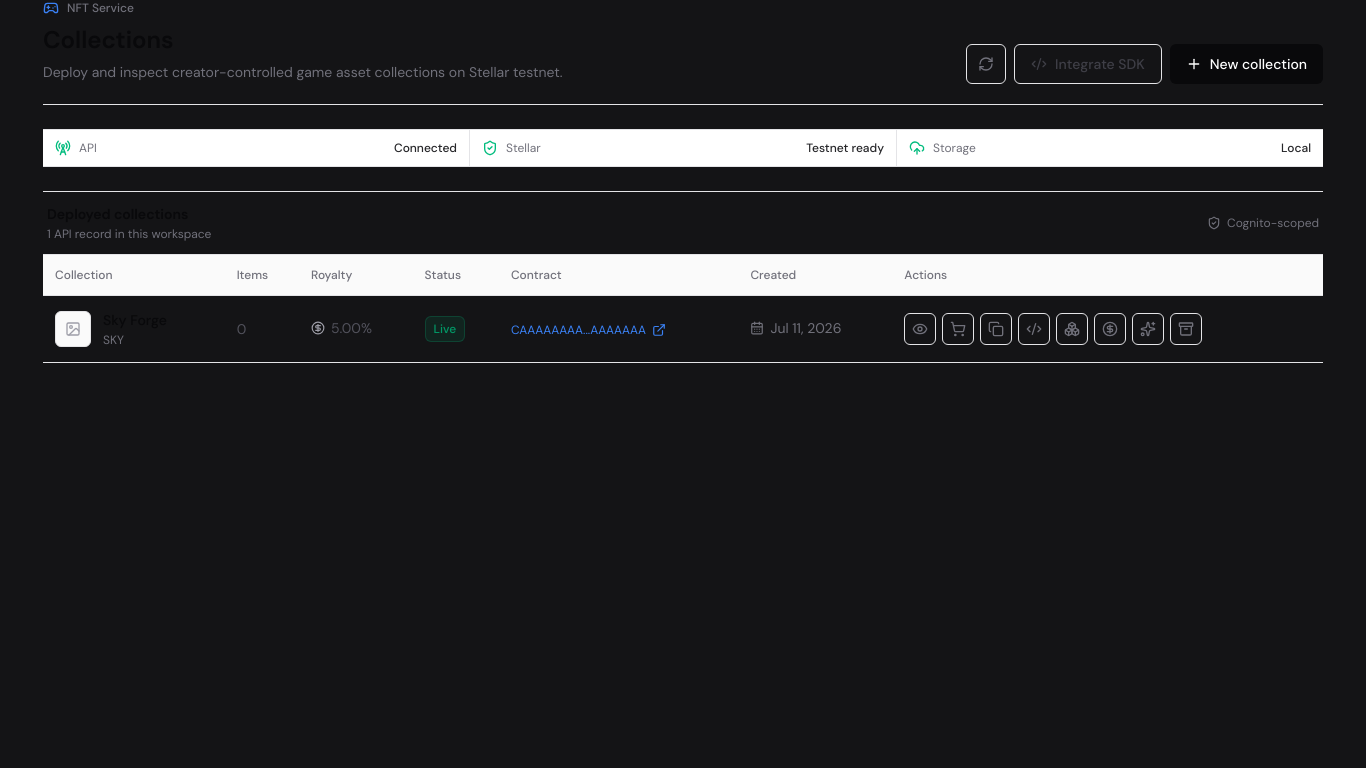
Scenario: CollectionDashboard › signs non-sponsor sale configuration with Freighter and submits
Click the button titled "Configure primary sale" at (1110, 329), box [1094, 313, 1126, 345]
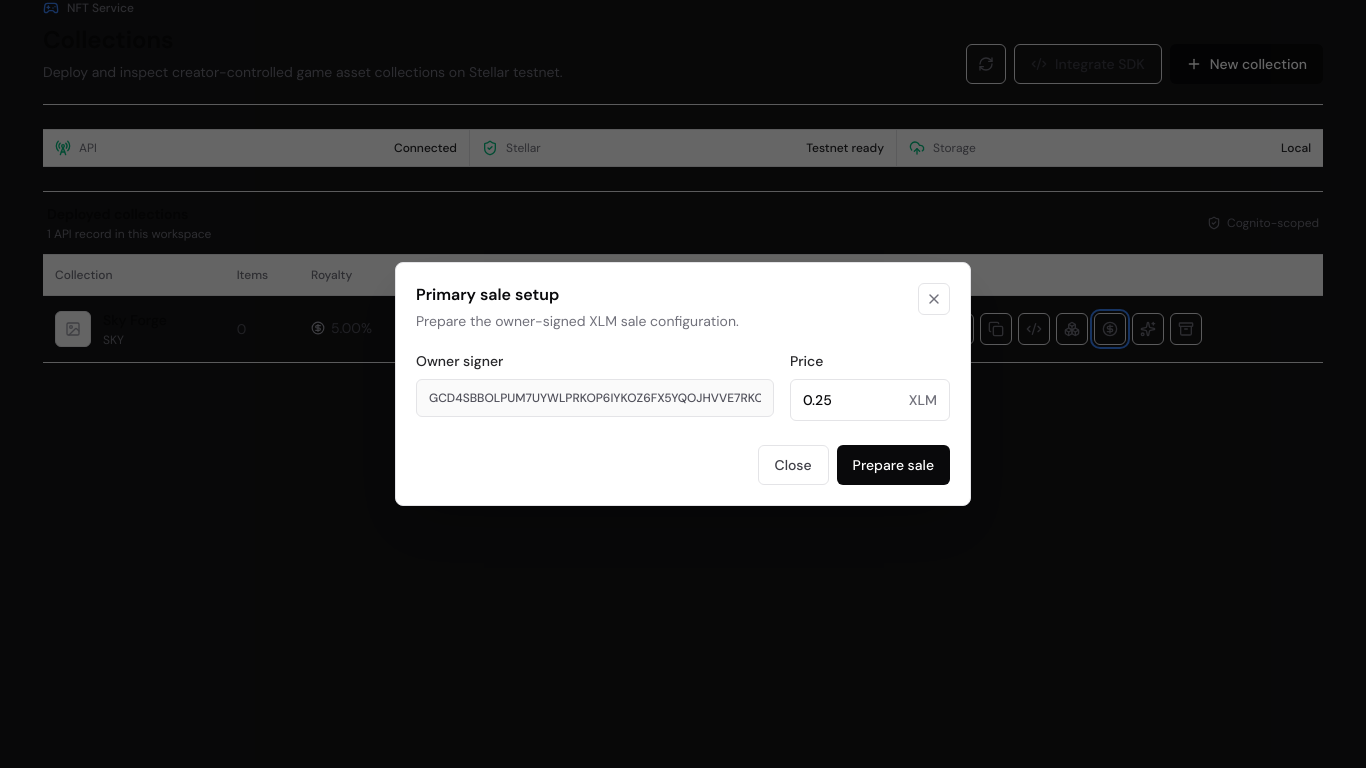
Replace the text in the field labelled "Price XLM" with "1.25" at (850, 400), box [791, 380, 909, 420]
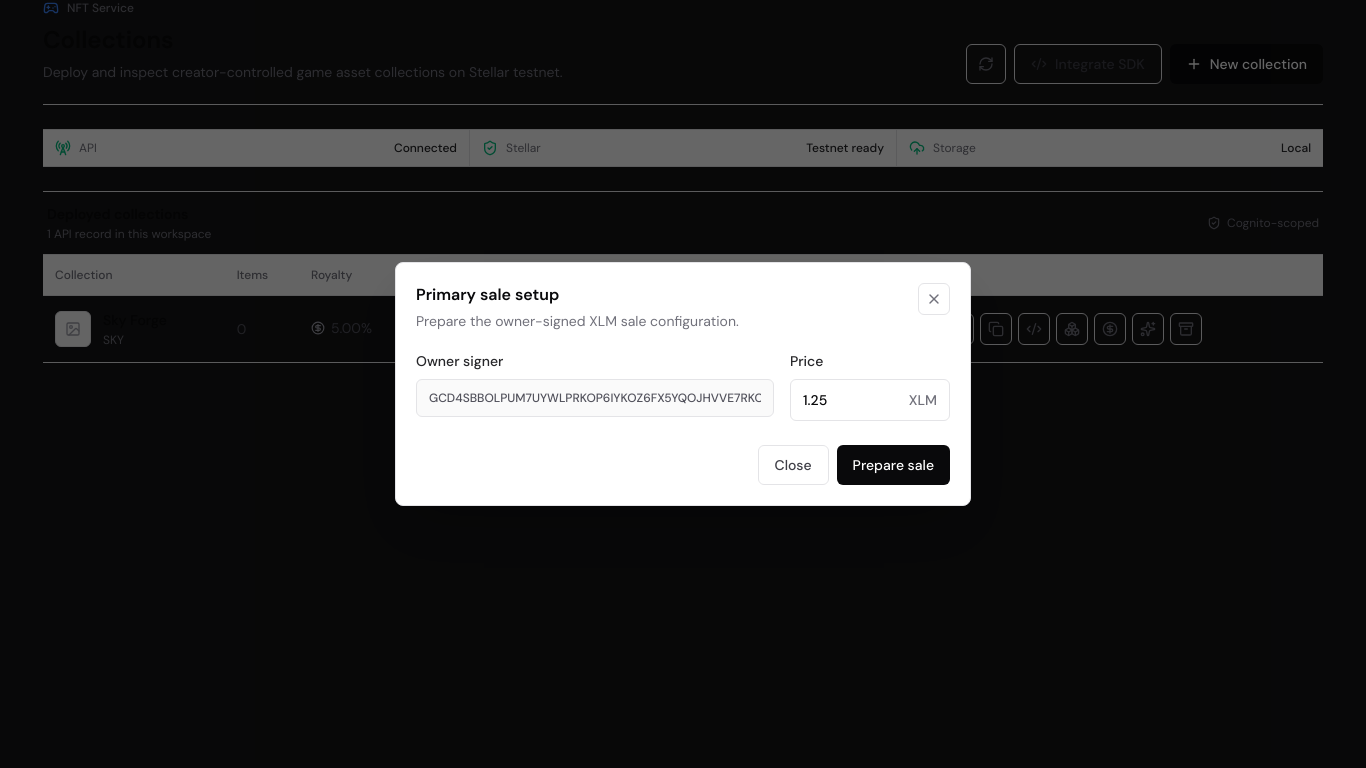
Click the button "Prepare sale" at (893, 465), box [837, 445, 950, 485]
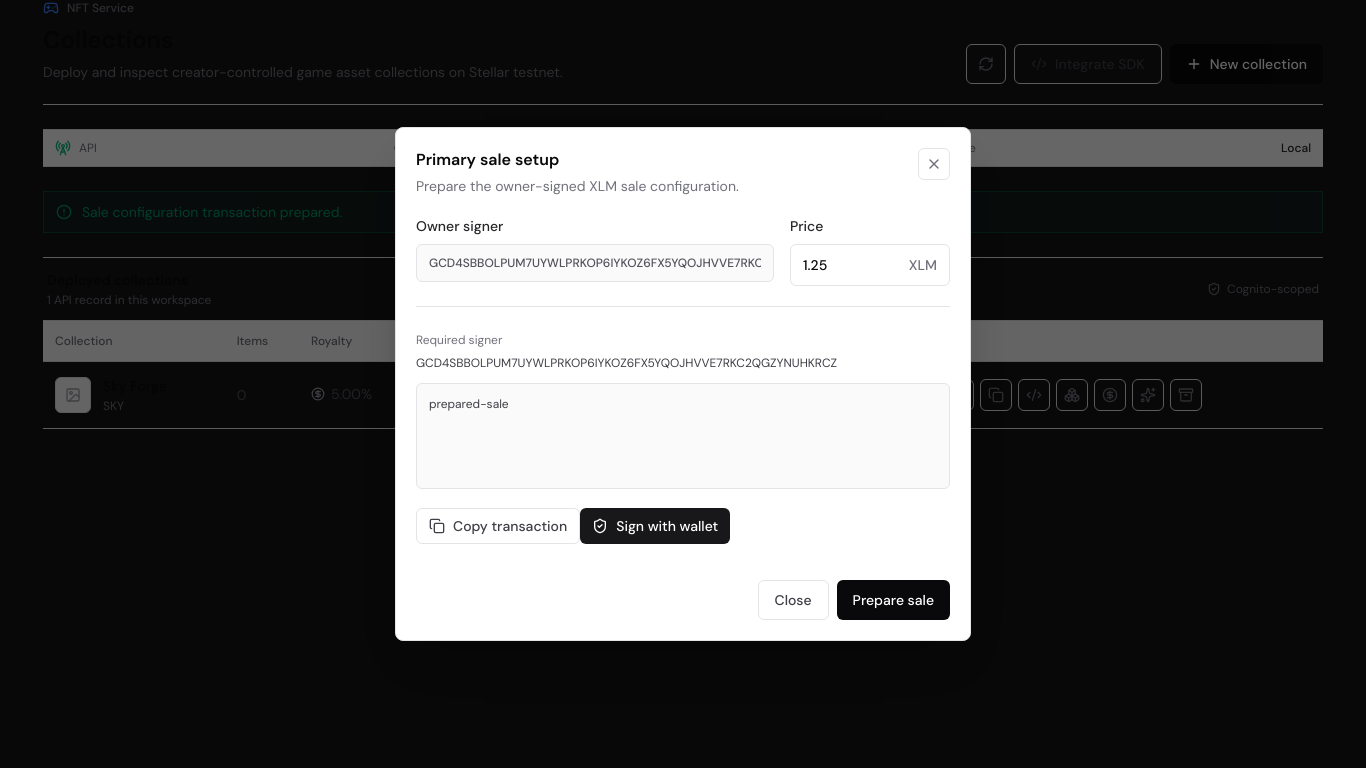
Click the button "Sign with wallet" at (655, 526), box [580, 508, 730, 544]
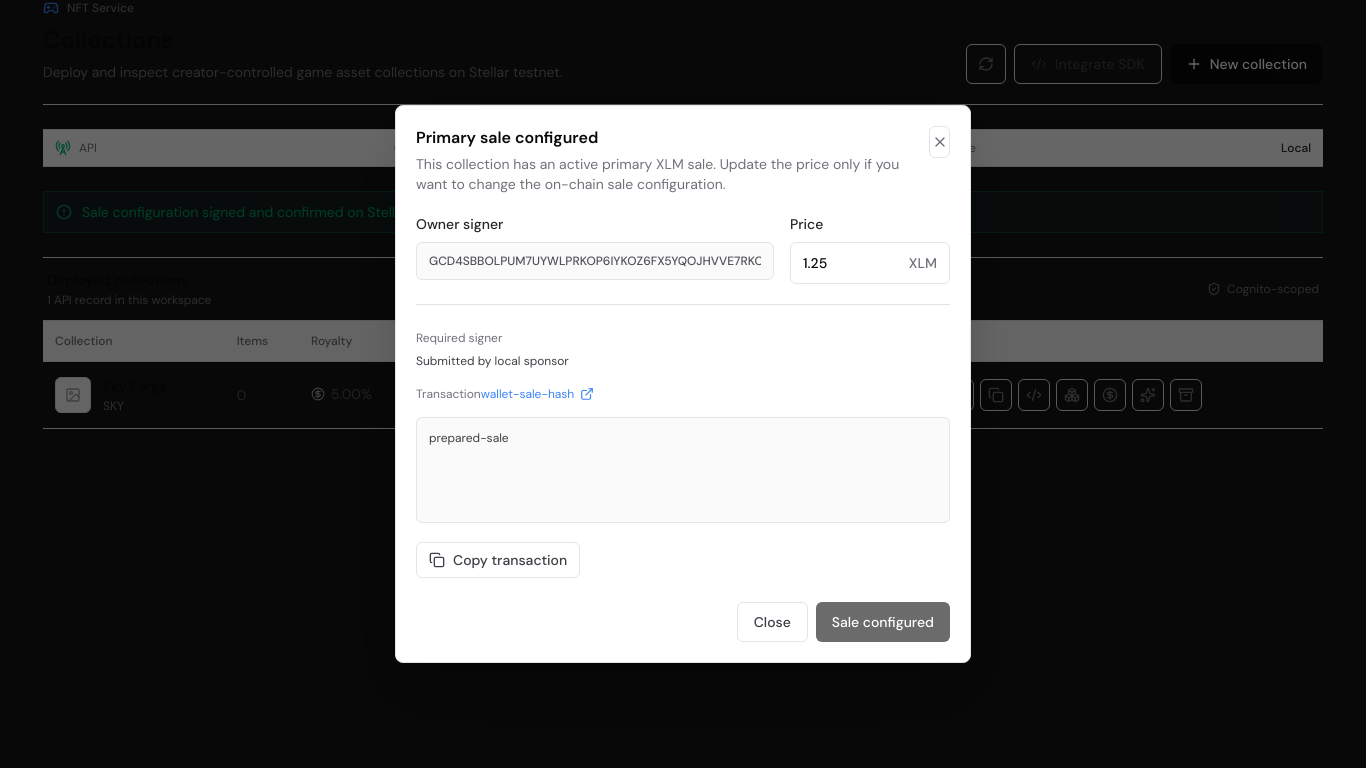
Expected: the text "Sale configuration signed and confirmed on Stellar testnet." is shown, [82, 202, 461, 222]
